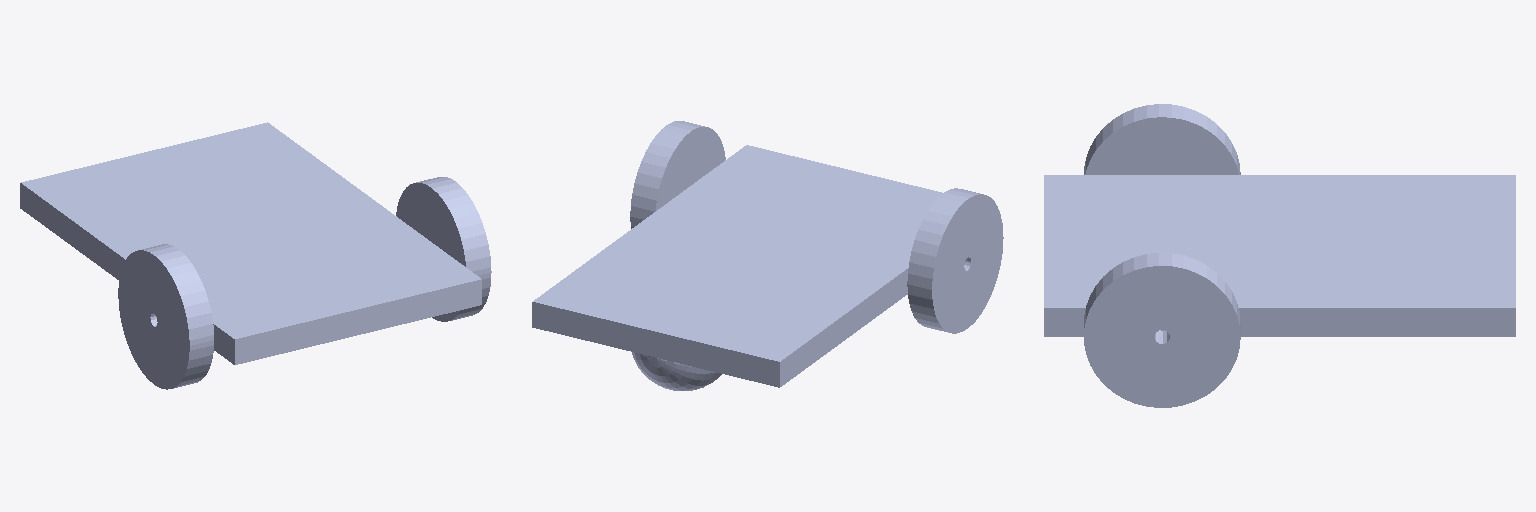
URDF robot description (simple_robot):
<?xml version="1.0" encoding="utf-8"?>
<!-- This URDF was automatically created by SolidWorks to URDF Exporter! Originally created by [author] ([email redacted]) 
     Commit Version: 1.5.1-0-g916b5db  Build Version: 1.5.7152.31018
     For more information, please see http://wiki.ros.org/sw_urdf_exporter -->
<robot
  name="simple_robot">
  <link
    name="base_link">
    <inertial>
      <origin
        xyz="1.4745E-17 0.042753 0.0014737"
        rpy="0 0 0" />
      <mass
        value="1" />
      <inertia
        ixx="0.00032204"
        ixy="-2.1108E-20"
        ixz="5.3975E-22"
        iyy="0.0001277"
        iyz="8.4706E-06"
        izz="0.00044301" />
    </inertial>
    <visual>
      <origin
        xyz="0 0 0"
        rpy="0 0 0" />
      <geometry>
        <mesh
          filename="package://simple_robot/meshes/base_link.STL" />
      </geometry>
      <material
        name="">
        <color
          rgba="0.79216 0.81961 0.93333 1" />
      </material>
    </visual>
    <collision>
      <origin
        xyz="0 0 0"
        rpy="0 0 0" />
      <geometry>
        <mesh
          filename="package://simple_robot/meshes/base_link.STL" />
      </geometry>
    </collision>
  </link>
  <link
    name="R_Link">
    <inertial>
      <origin
        xyz="0 -0.005 0"
        rpy="0 0 0" />
      <mass
        value="0.1" />
      <inertia
        ixx="3.2296E-06"
        ixy="-5.9881E-39"
        ixz="2.0404E-37"
        iyy="6.1353E-06"
        iyz="4.108E-22"
        izz="3.2296E-06" />
    </inertial>
    <visual>
      <origin
        xyz="0 0 0"
        rpy="0 0 0" />
      <geometry>
        <mesh
          filename="package://simple_robot/meshes/R_Link.STL" />
      </geometry>
      <material
        name="">
        <color
          rgba="0.79216 0.81961 0.93333 1" />
      </material>
    </visual>
    <collision>
      <origin
        xyz="0 0 0"
        rpy="0 0 0" />
      <geometry>
        <mesh
          filename="package://simple_robot/meshes/R_Link.STL" />
      </geometry>
    </collision>
  </link>
  <joint
    name="joint_R"
    type="continuous">
    <origin
      xyz="-0.051 0 0.0025"
      rpy="1.5708 1.5708 0" />
    <parent
      link="base_link" />
    <child
      link="R_Link" />
    <axis
      xyz="0 1 0" />
  </joint>
  <link
    name="L_Link">
    <inertial>
      <origin
        xyz="0 0.005 2.7756E-17"
        rpy="0 0 0" />
      <mass
        value="0.1" />
      <inertia
        ixx="3.2296E-06"
        ixy="-4.2967E-38"
        ixz="1.3256E-37"
        iyy="6.1353E-06"
        iyz="4.1135E-22"
        izz="3.2296E-06" />
    </inertial>
    <visual>
      <origin
        xyz="0 0 0"
        rpy="0 0 0" />
      <geometry>
        <mesh
          filename="package://simple_robot/meshes/L_Link.STL" />
      </geometry>
      <material
        name="">
        <color
          rgba="0.79216 0.81961 0.93333 1" />
      </material>
    </visual>
    <collision>
      <origin
        xyz="0 0 0"
        rpy="0 0 0" />
      <geometry>
        <mesh
          filename="package://simple_robot/meshes/L_Link.STL" />
      </geometry>
    </collision>
  </link>
  <joint
    name="joint_L"
    type="continuous">
    <origin
      xyz="0.051 0 0.0025"
      rpy="1.5708 1.5708 0" />
    <parent
      link="base_link" />
    <child
      link="L_Link" />
    <axis
      xyz="0 1 0" />
  </joint>
</robot>

--- What the picture shows (computed from the rendered views, not written in the file) ---
3 views of the same robot in one strip: view 1: azimuth 30°, elevation 25°; view 2: azimuth 150°, elevation 25°; view 3: azimuth 270°, elevation 25° (orthographic).
Model simple_robot with 3 links and 2 joints (2 continuous), rooted at base_link, posed all joints at 0.
Links seen in each view (by area): view 1: base_link, R_Link, L_Link; view 2: base_link, R_Link, L_Link; view 3: base_link, L_Link, R_Link.
Link boxes in pixels (<box>): base_link: <box>20,122,481,364</box>; R_Link: <box>118,244,213,389</box>; L_Link: <box>396,177,491,321</box>; base_link: <box>532,145,942,390</box>; R_Link: <box>907,188,1003,333</box>; L_Link: <box>630,121,725,228</box>; base_link: <box>1044,175,1515,336</box>; L_Link: <box>1084,253,1240,407</box>; R_Link: <box>1084,104,1240,174</box>.
Bounding box of the posed robot: 0.122 × 0.15 × 0.05 m (x, y, z).
Meshes: 3 distinct files referenced, 3 mesh visuals loaded (3 binary STL).